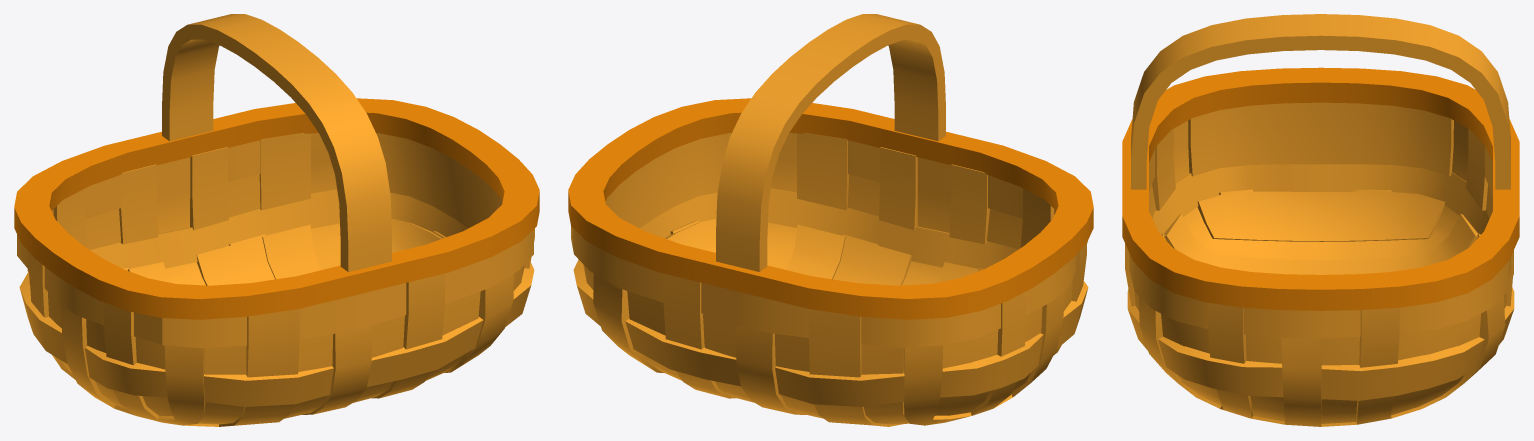
Rendered from basket.glb.
The picture shows the model from 3 angles, left to right: view 1: azimuth 30°, elevation 25°; view 2: azimuth 150°, elevation 25°; view 3: azimuth 270°, elevation 25°; orthographic projection.
Parts seen in each view (by area): view 1: Cube.1014; view 2: Cube.1014; view 3: Cube.1014.
Part boxes in pixels (x1,y1,x2,y2): Cube.1014: (14, 14, 539, 426); Cube.1014: (568, 14, 1093, 426); Cube.1014: (1122, 14, 1519, 426).
Bounding box in the file's own units: 2.33 × 1.65 × 1.76.
1 material, 1 textured.
